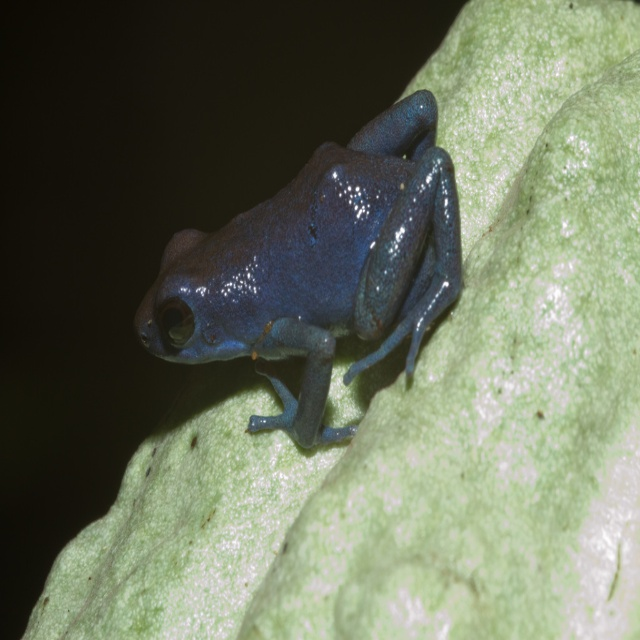Frog: (130, 86, 461, 449)
